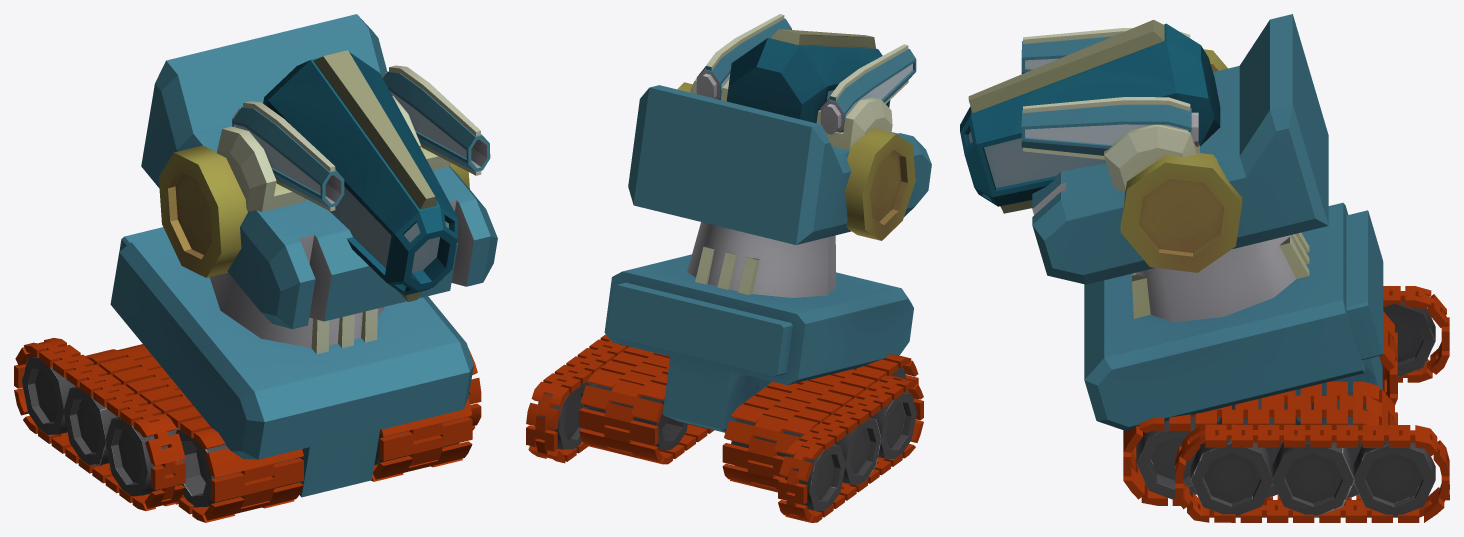
The model's file is player_move_2_upgrade2.obj.
The picture shows the model from 3 angles, left to right: view 1: azimuth 30°, elevation 25°; view 2: azimuth 150°, elevation 25°; view 3: azimuth 270°, elevation 25°; orthographic projection. The views are drawn at different scales.
Visible parts, largest first — view 1: Object004, Object012, Box038, Box043, Object013, Box042, Object011, Box044; view 2: Object004, Box038, Box042, Box043, Object012, Object013, Box044, Object011, Object014; view 3: Object004, Object014, Box044, Object012, Box042, Object011, Object013, Box043, Box038.
Part boxes in pixels (left/top/right/bottom): Object004: left=110, top=14, right=497, bottom=497; Object012: left=232, top=65, right=490, bottom=211; Box038: left=85, top=344, right=303, bottom=522; Box043: left=14, top=338, right=185, bottom=510; Object013: left=21, top=356, right=176, bottom=495; Box042: left=371, top=398, right=472, bottom=481; Object011: left=170, top=417, right=463, bottom=507; Box044: left=464, top=348, right=481, bottom=430; Object004: left=604, top=29, right=931, bottom=432; Box038: left=722, top=354, right=918, bottom=492; Box042: left=579, top=346, right=713, bottom=464; Box043: left=778, top=375, right=923, bottom=522; Object012: left=696, top=14, right=916, bottom=134; Object013: left=785, top=391, right=916, bottom=510; Box044: left=526, top=334, right=628, bottom=463; Object011: left=588, top=367, right=906, bottom=477; Object014: left=535, top=381, right=593, bottom=449; Object004: left=960, top=14, right=1383, bottom=430; Object014: left=1190, top=429, right=1435, bottom=517; Box044: left=1175, top=424, right=1449, bottom=522; Object012: left=1021, top=28, right=1198, bottom=159; Box042: left=1123, top=381, right=1397, bottom=505; Object011: left=1136, top=363, right=1381, bottom=499; Object013: left=1381, top=294, right=1435, bottom=376; Box043: left=1383, top=286, right=1449, bottom=382; Box038: left=1379, top=311, right=1397, bottom=404.
Bounding box in the file's own units: 139 × 178 × 187.
Materials: 4 (2 with a texture image).
